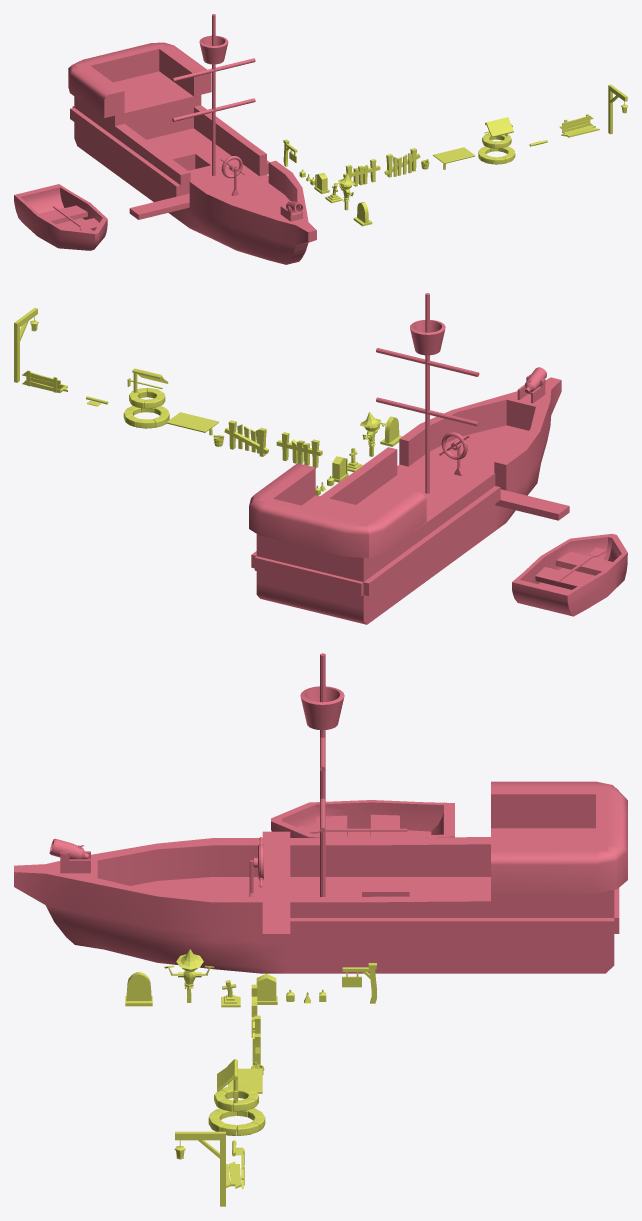
Rendered from Props_UVs.fbx.
3 renders of one model, top to bottom at view 1: azimuth 30°, elevation 25°; view 2: azimuth 150°, elevation 25°; view 3: azimuth 270°, elevation 25°, orthographic. The views are drawn at different scales.
Visible parts, largest first — view 1: pCube26, Barco_UVs, Mastil_UVs, Cubeta_Barco_UVs, Cerca_M2_UVs, Banca_UVs, Cerca_M1_UVs, Fogata_Base_UVs, Mesa_UVs, Pozo_Techo_UVs, Poste_Luz_UVs, Pozo_Muros_UVs; view 2: pCube26, Barco_UVs, Mastil_UVs, Cubeta_Barco_UVs, Cerca_M2_UVs, Cerca_M1_UVs, Fogata_Base_UVs, Pozo_Muros_UVs, Mesa_UVs, Poste_Luz_UVs, Banca_UVs; view 3: pCube26, Barco_UVs, Cubeta_Barco_UVs, Mastil_UVs, Fogata_Base_UVs, Poste_Luz_UVs, Pozo_Muros_UVs.
Part boxes in pixels (<box>): pCube26: <box>68,42,316,264</box>; Barco_UVs: <box>14,184,107,250</box>; Mastil_UVs: <box>172,14,255,175</box>; Cubeta_Barco_UVs: <box>199,35,228,64</box>; Cerca_M2_UVs: <box>384,148,420,177</box>; Banca_UVs: <box>559,114,599,137</box>; Cerca_M1_UVs: <box>343,159,380,186</box>; Fogata_Base_UVs: <box>478,146,515,164</box>; Mesa_UVs: <box>432,147,475,163</box>; Pozo_Techo_UVs: <box>486,117,513,137</box>; Poste_Luz_UVs: <box>608,84,627,134</box>; Pozo_Muros_UVs: <box>482,133,511,148</box>; pCube26: <box>249,377,569,624</box>; Barco_UVs: <box>512,534,627,616</box>; Mastil_UVs: <box>376,293,479,493</box>; Cubeta_Barco_UVs: <box>410,320,445,355</box>; Cerca_M2_UVs: <box>224,420,268,456</box>; Cerca_M1_UVs: <box>276,432,322,468</box>; Fogata_Base_UVs: <box>123,406,169,428</box>; Pozo_Muros_UVs: <box>129,388,165,408</box>; Mesa_UVs: <box>166,412,218,432</box>; Poste_Luz_UVs: <box>14,308,37,382</box>; Banca_UVs: <box>22,370,67,392</box>; pCube26: <box>14,781,627,973</box>; Barco_UVs: <box>271,800,454,837</box>; Cubeta_Barco_UVs: <box>300,686,344,730</box>; Mastil_UVs: <box>320,653,325,896</box>; Fogata_Base_UVs: <box>208,1108,265,1135</box>; Poste_Luz_UVs: <box>175,1131,225,1206</box>; Pozo_Muros_UVs: <box>214,1086,258,1111</box>.
Bounding box in the file's own units: 0.2015 × 0.0707 × 0.133.
